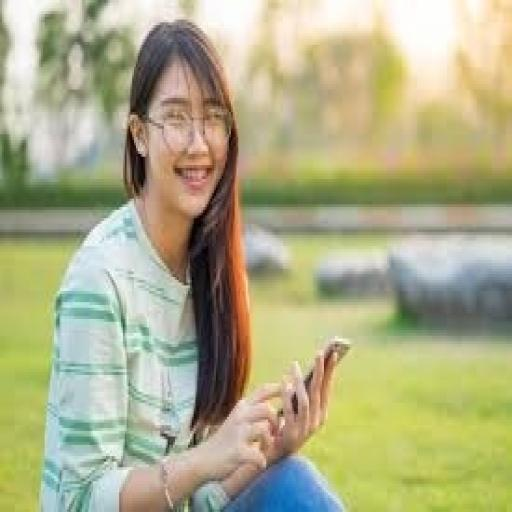texting: (37, 17, 350, 509)
